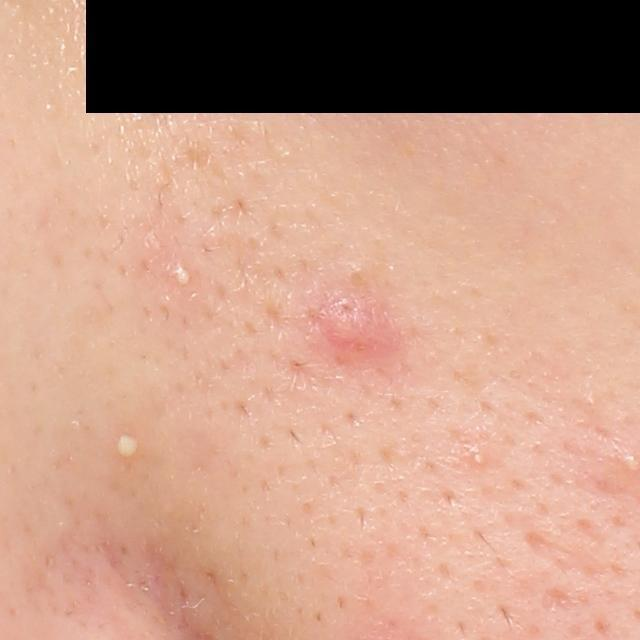atrophic_scar: (523, 531, 618, 580), (535, 586, 575, 620)
papule: (312, 281, 408, 364)
pustule: (114, 427, 145, 462), (169, 260, 197, 288)
